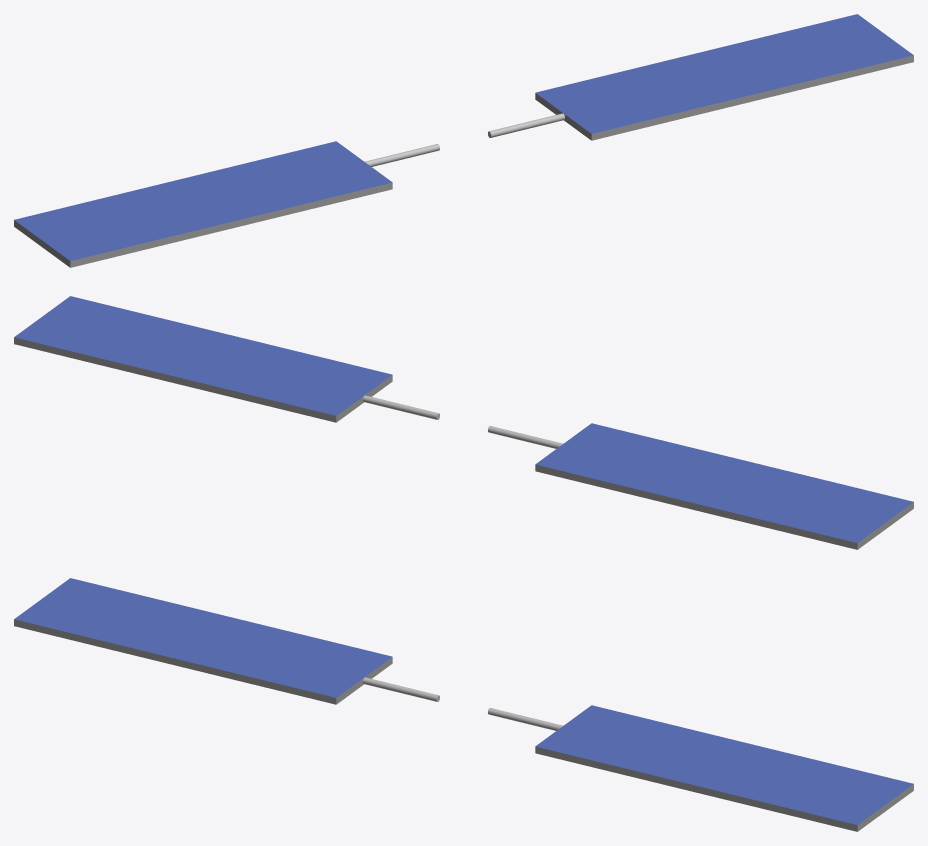
Rendered from SatWings2Unity.fbx.
3 renders of one model, top to bottom at view 1: azimuth 30°, elevation 25°; view 2: azimuth 150°, elevation 25°; view 3: azimuth 330°, elevation 25°, orthographic.
Visible parts, largest first — view 1: SatWing1, SatWing2, SatWingConnector6, SatWingConnector5; view 2: SatWing1, SatWing2, SatWingConnector6, SatWingConnector5; view 3: SatWing2, SatWing1, SatWingConnector5, SatWingConnector6.
Boxes of the visible parts, x1,y1,x2,y2 form: SatWing1: (14, 141, 392, 267); SatWing2: (535, 14, 913, 140); SatWingConnector6: (488, 113, 564, 137); SatWingConnector5: (365, 144, 439, 166); SatWing1: (535, 423, 913, 549); SatWing2: (14, 296, 392, 422); SatWingConnector6: (363, 395, 439, 419); SatWingConnector5: (488, 426, 562, 448); SatWing2: (535, 705, 913, 831); SatWing1: (14, 578, 392, 704); SatWingConnector5: (363, 677, 439, 701); SatWingConnector6: (488, 708, 562, 730).
Bounding box in the file's own units: 25.9 × 0.2 × 3.
